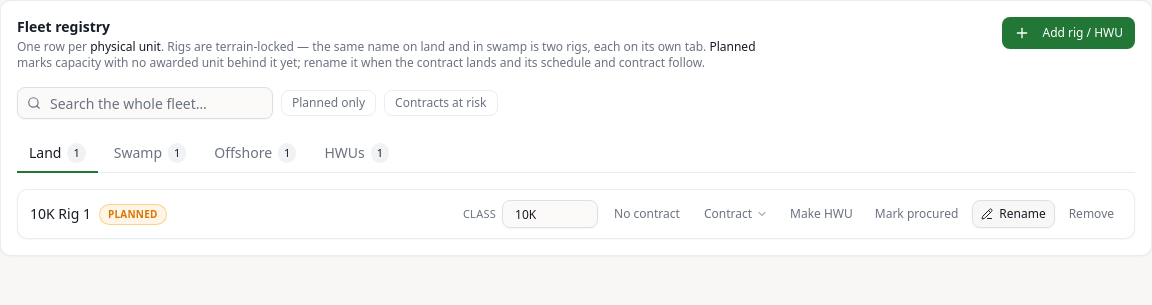
Scenario: ResourceRegistryPanel › puts terrain twins on their own tabs, with counts in the strip
Expected: the text "10K Rig 1" is shown, 30,204 -> 91,224
Expected: the text titled "planned capacity — no awarded unit" next to "10K Rig 1" is shown, 108,206 -> 158,220
Note: The swamp twin lives on its own tab, carrying its own contract.
Click the button "Swamp 1" at (150, 154), box 102,135 -> 198,173
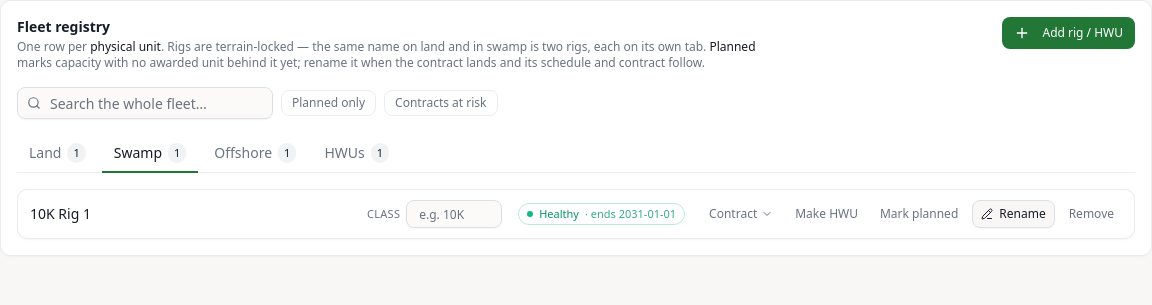
Expected: the text "10K Rig 1" is shown, 30,204 -> 91,224
Now the text "· ends 2031-01-01" is shown, box 585,206 -> 676,222
Now the text "No contract" is gone
Note: A PROCURED unit without a contract is the real data gap — flagged.
Click the button "HWUs 1" at (357, 154), box 312,135 -> 401,173
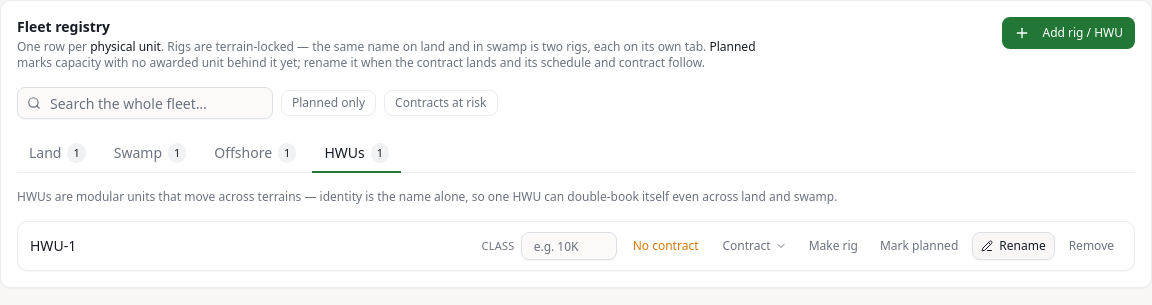
Now the text "HWU-1" is shown, box 30,236 -> 76,256
Now the text titled "procured unit with no contract on file" is shown, box 633,237 -> 698,254
